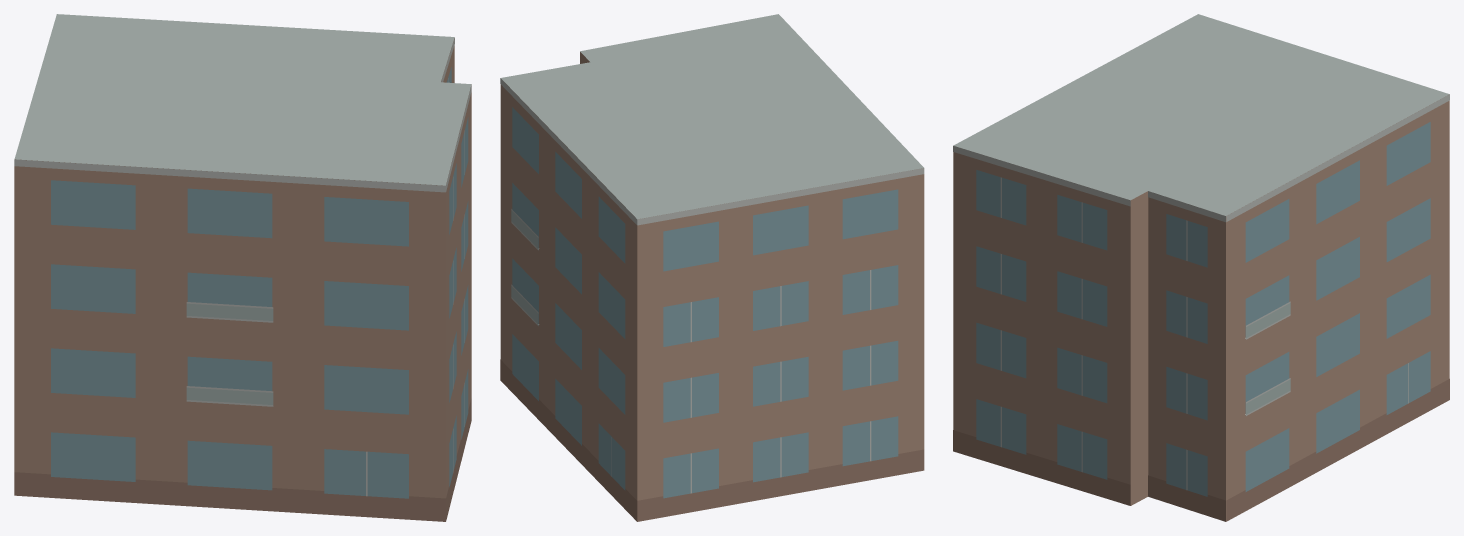
File: survey-upis-32704579.glb
The picture shows the model from 3 angles, left to right: view 1: azimuth 30°, elevation 25°; view 2: azimuth 150°, elevation 25°; view 3: azimuth 270°, elevation 25°; orthographic projection. The views are drawn at different scales.
Parts seen in each view (by area): view 1: survey-upis-32704579.tmp; view 2: survey-upis-32704579.tmp; view 3: survey-upis-32704579.tmp.
Boxes of the visible parts, x1,y1,x2,y2 form: survey-upis-32704579.tmp: (14,14,471,521); survey-upis-32704579.tmp: (500,14,924,521); survey-upis-32704579.tmp: (953,14,1449,521).
Size of the model in its own units: 17.03 by 12 by 17.68.
